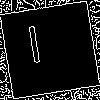I: (24, 25, 45, 73)
